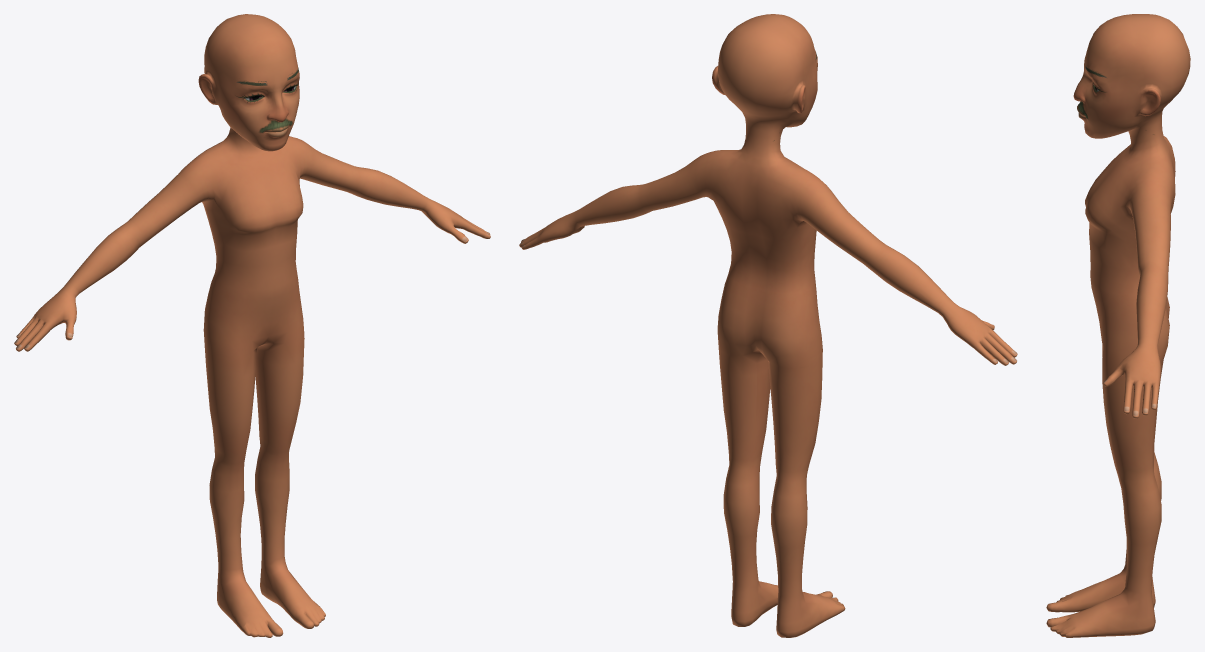
The model's file is frame_0080.glb.
3 views of the same model, side by side, from view 1: azimuth 30°, elevation 25°; view 2: azimuth 150°, elevation 25°; view 3: azimuth 270°, elevation 25° (orthographic). The views are drawn at different scales.
Visible parts, largest first — view 1: frame_0080_head_geo; view 2: frame_0080_head_geo; view 3: frame_0080_head_geo.
Part boxes in pixels (<box>): frame_0080_head_geo: <box>14,14,490,637</box>; frame_0080_head_geo: <box>519,14,1017,637</box>; frame_0080_head_geo: <box>1046,14,1190,637</box>.
Bounding box in the file's own units: 1.28 × 1.5 × 0.3253.
Materials: 3 (3 with a texture image).
